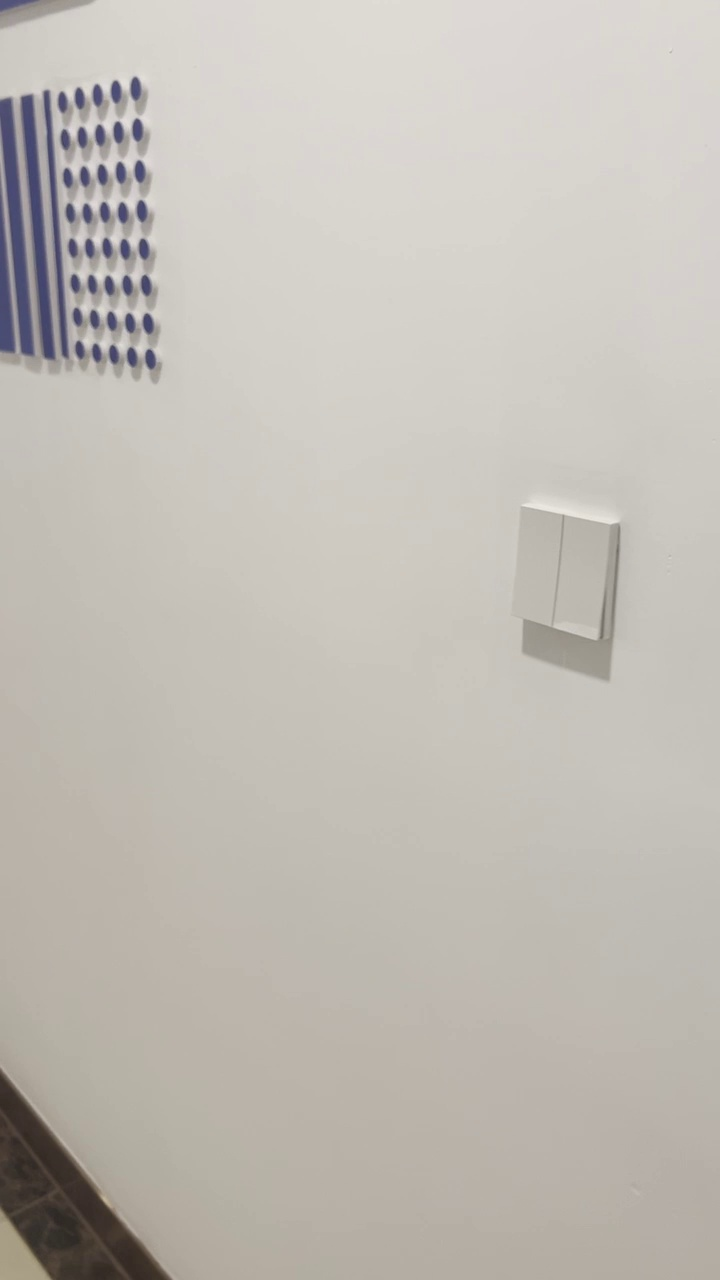button: (510, 504, 624, 646)
